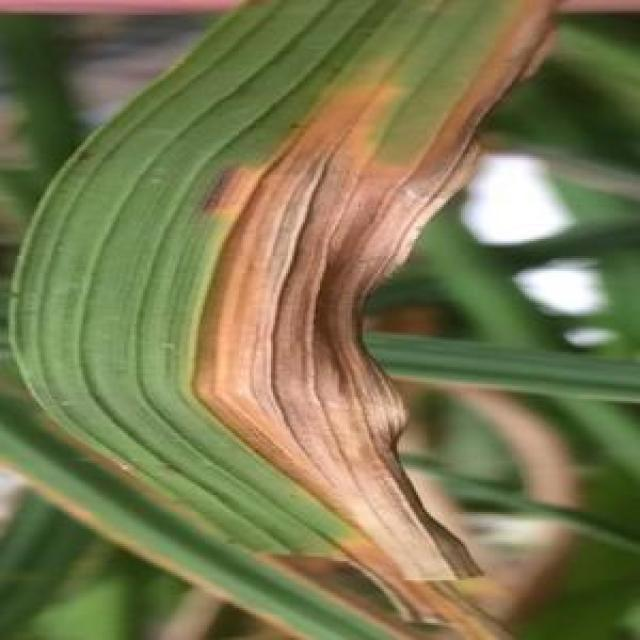Bacterial_Blight: (190, 0, 564, 640)
